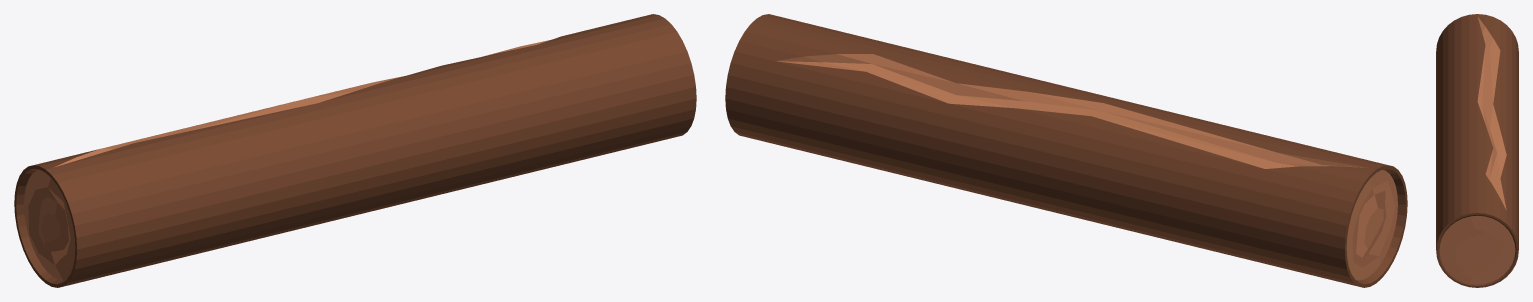
The model's file is Tron.fbx.
3 views of the same model, side by side, from view 1: azimuth 30°, elevation 25°; view 2: azimuth 150°, elevation 25°; view 3: azimuth 270°, elevation 25° (orthographic). The views are drawn at different scales.
Parts seen in each view (by area): view 1: Cylinder; view 2: Cylinder; view 3: Cylinder.
Boxes of the visible parts, x1,y1,x2,y2 form: Cylinder: (14, 14, 696, 287); Cylinder: (725, 14, 1407, 287); Cylinder: (1436, 14, 1518, 287).
Size of the model in its own units: 1139 by 200 by 200.
